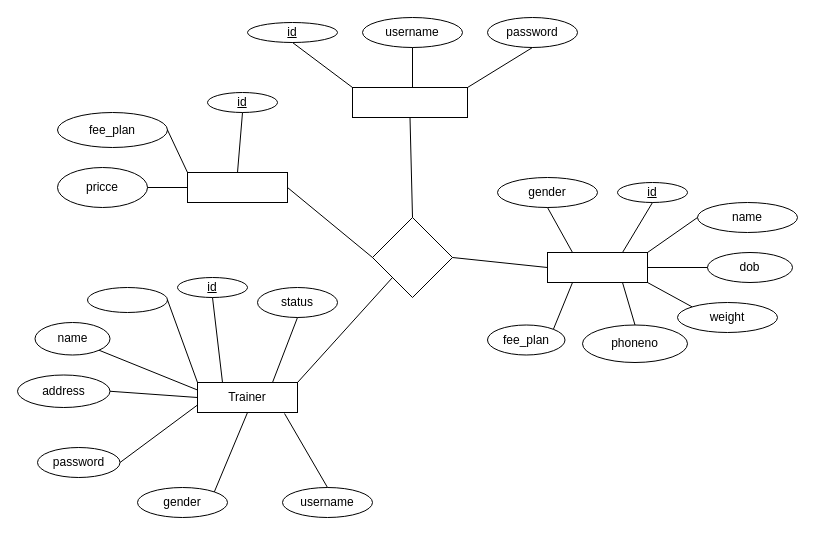
This 815x535 diagram has some shape labels left out. The centre of each missing label's shape, as x and y in pixels:
Fee: the point at 237,187
Operator Login: the point at 410,102
phone_no.: the point at 127,299
Users: the point at 597,267
Writes/ Read: the point at 412,257
